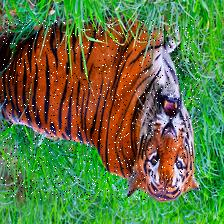tiger: (0, 20, 200, 200)
